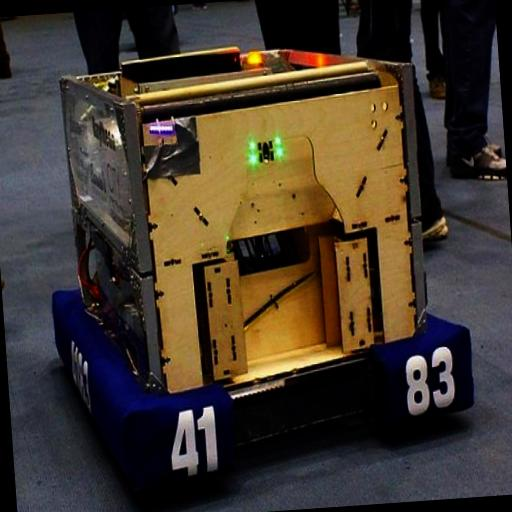robot: (34, 44, 482, 504)
